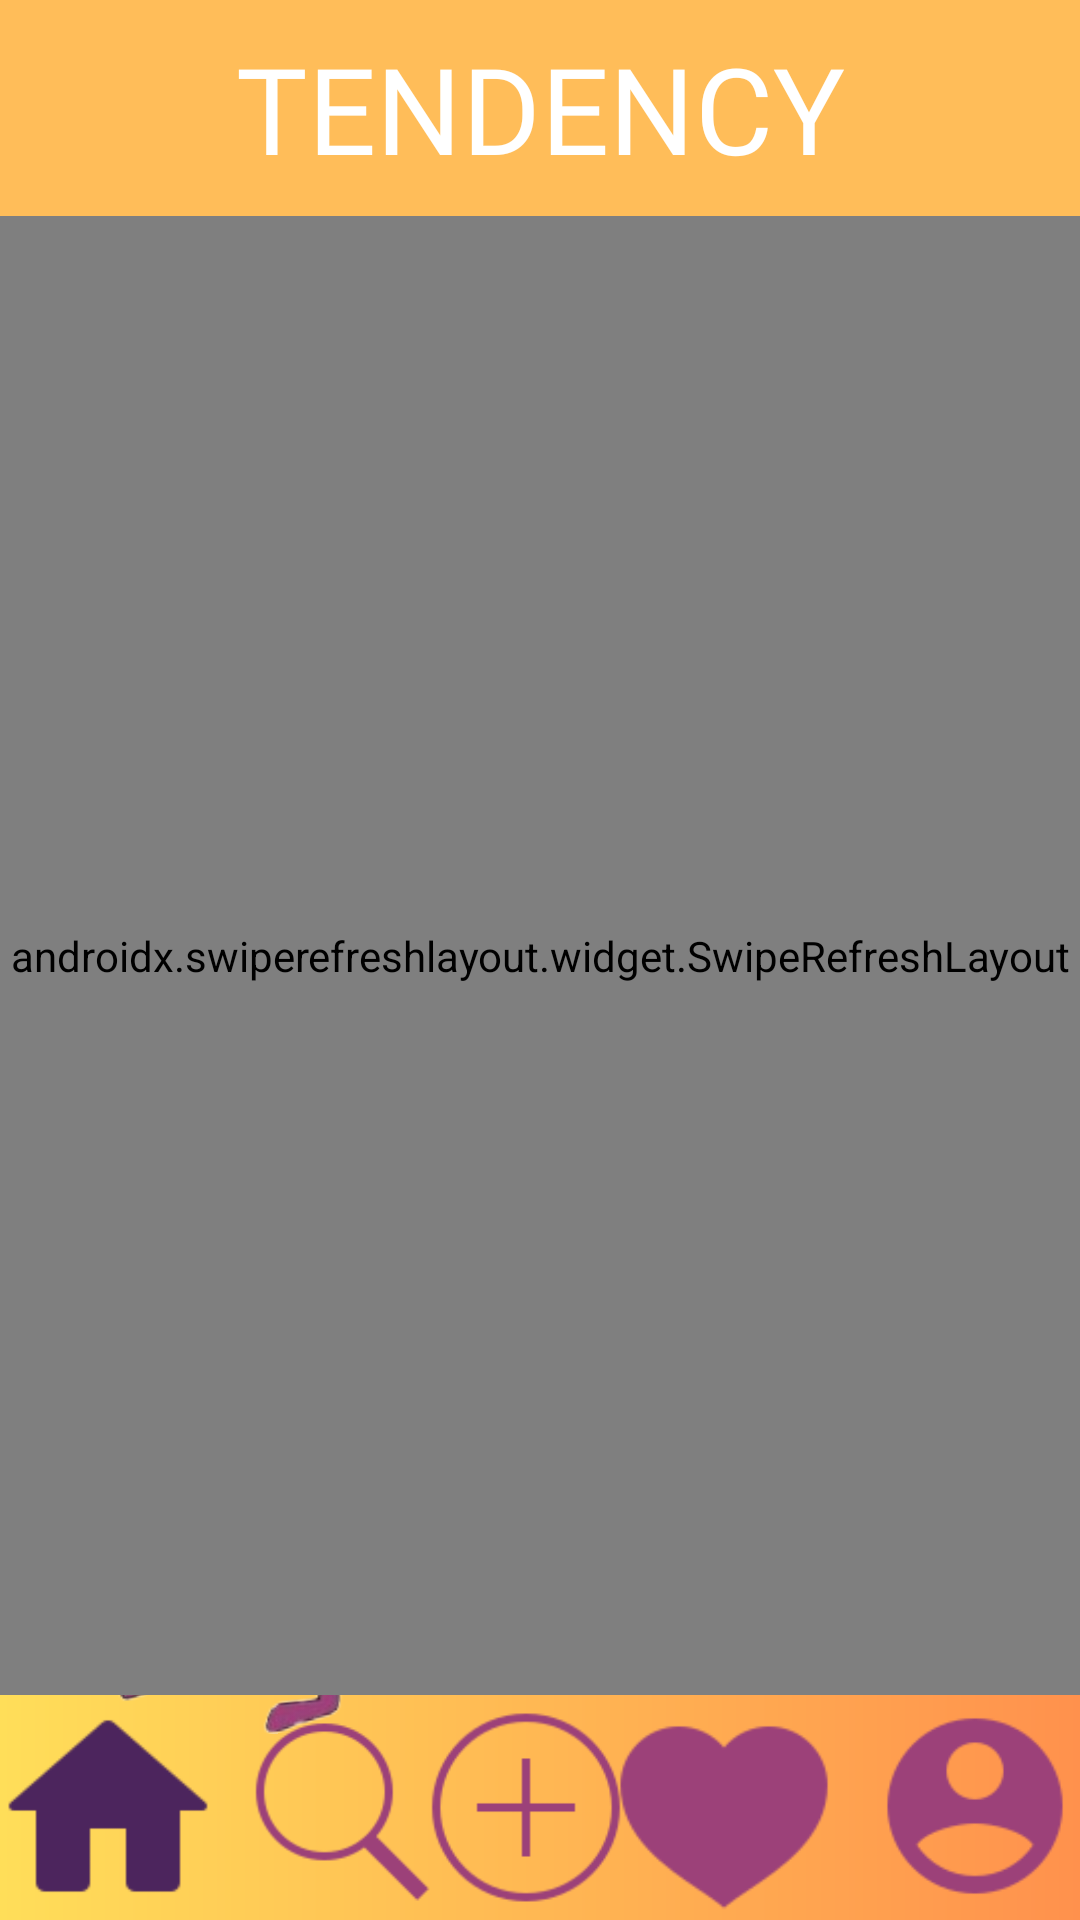

Named icons in this screenshot (1080 × 1920) and their centers, (x=x, y=y):
addImg Menu: (x=526, y=1807)
Page de Profile: (x=975, y=1806)
Page de Recherche: (x=348, y=1802)
Page Mes Likes: (x=719, y=1817)
